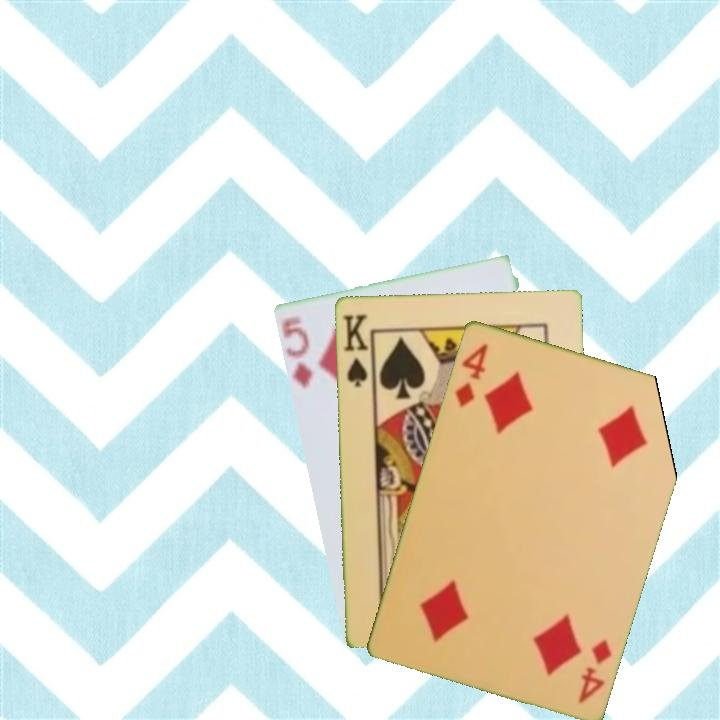4d: (574, 635, 615, 706), (451, 339, 491, 410)
5d: (278, 312, 315, 391)
Ks: (339, 310, 374, 390)
